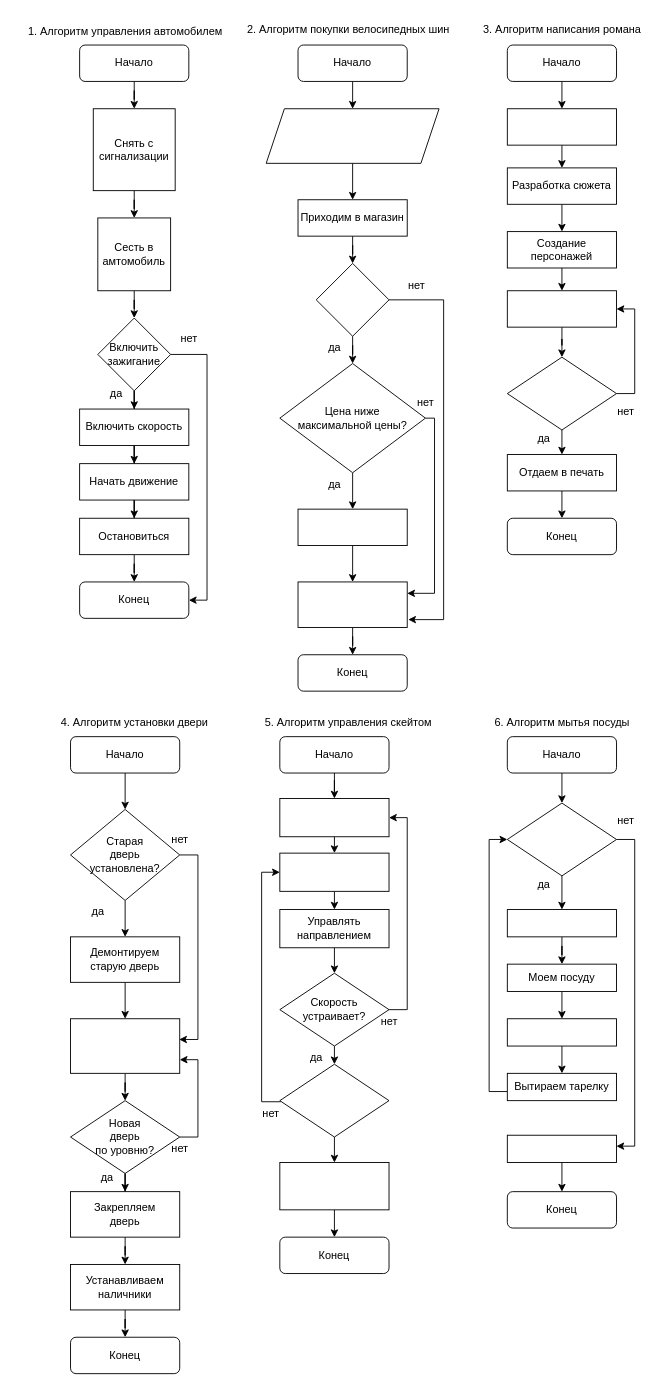
This 668x1390 diagram has some shape labels left out. Each missing label, with the centre of its shape:
Берем посуду: the point at 561,923
Ввводим параметры шин и максимальную цену: the point at 352,135
Выставляем новую дверь по уровню: the point at 125,1045
Есть немытая посуда?: the point at 561,839
Есть подходящие шины?: the point at 352,299
Завершение движения: the point at 334,1186
Ополаскиваем посуду: the point at 561,1032
Определение идеи: the point at 561,126
Оттолкнуться ногой: the point at 334,817
Пишем страницу: the point at 561,308
Поддерживать равновесие: the point at 334,871
Покупаем шины: the point at 352,527
Посуда помыта: the point at 561,1148
Прибыли в пункт назначения?: the point at 334,1100
Страница последняя?: the point at 561,393
Уходим из магазина: the point at 352,604
